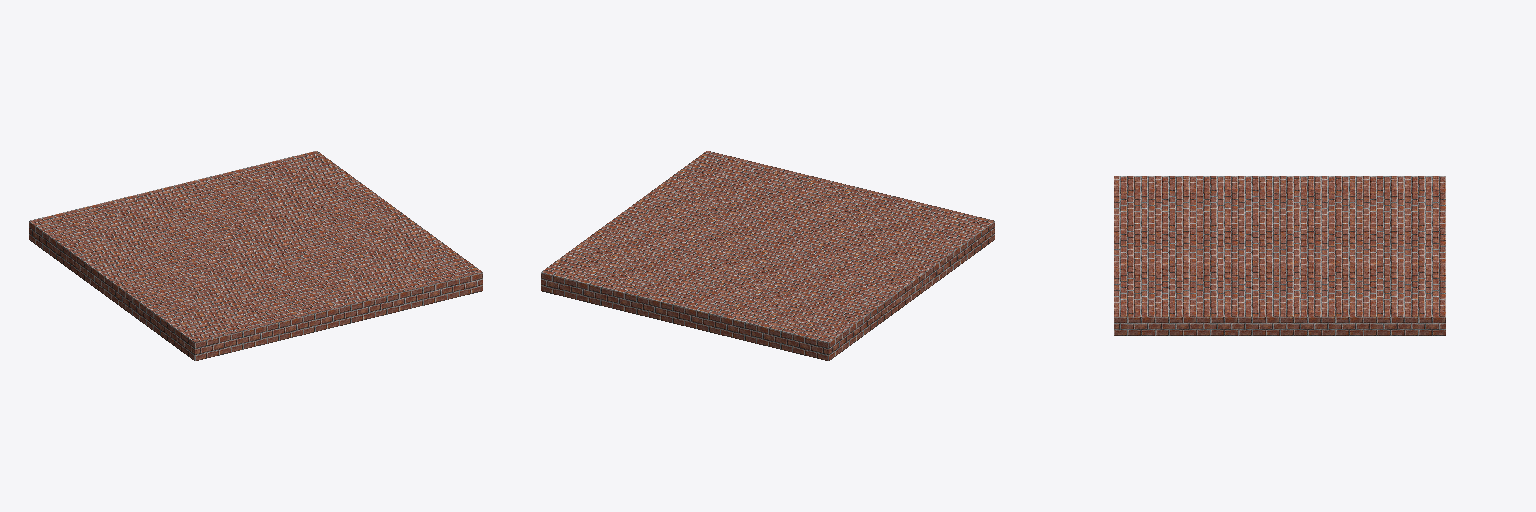
The picture shows the model from 3 angles: view 1: azimuth 30°, elevation 25°; view 2: azimuth 150°, elevation 25°; view 3: azimuth 270°, elevation 25°; orthographic projection.
Visible parts, largest first — view 1: entity0_brush0; view 2: entity0_brush0; view 3: entity0_brush0.
Part boxes in pixels (x1,y1,x2,y2): entity0_brush0: (29, 151, 482, 360); entity0_brush0: (541, 151, 994, 360); entity0_brush0: (1114, 176, 1445, 335).
Size of the model in its own units: 256 by 16 by 256.
1 materials, 1 textured.